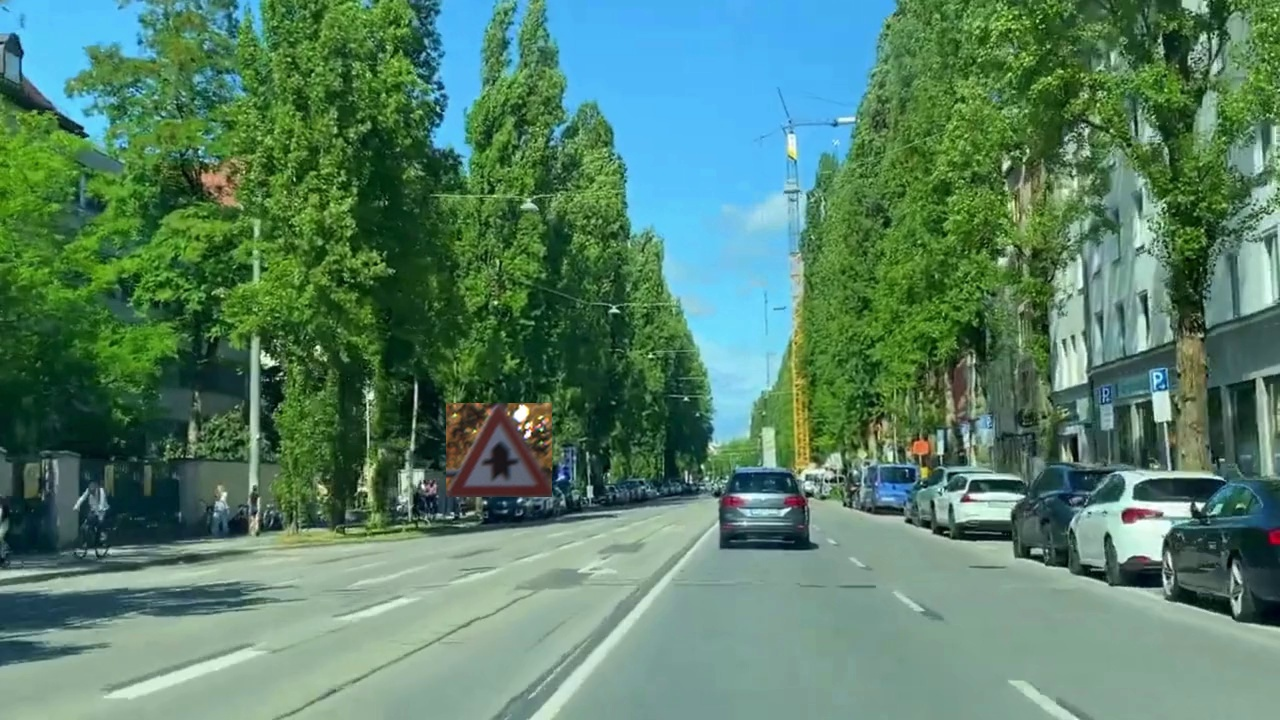Right-of-way: (446, 403, 552, 497)
